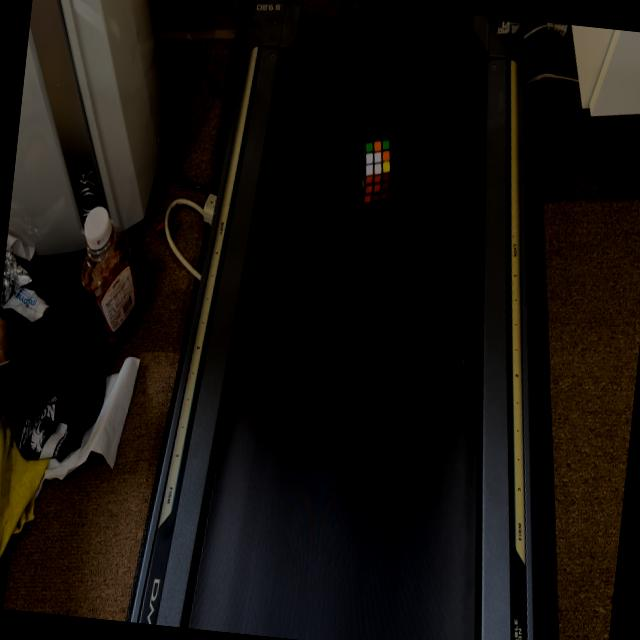Trash: (348, 131, 398, 208)
